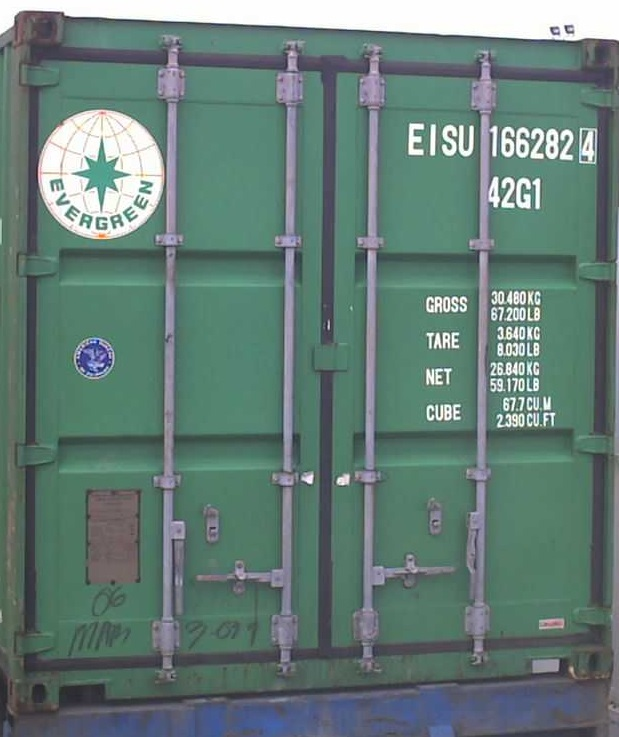container_door: (18, 11, 619, 712)
